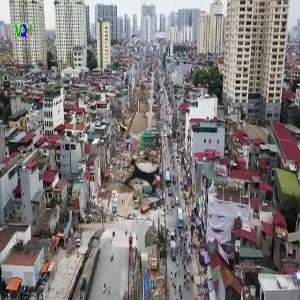drone: (103, 142, 180, 219)
